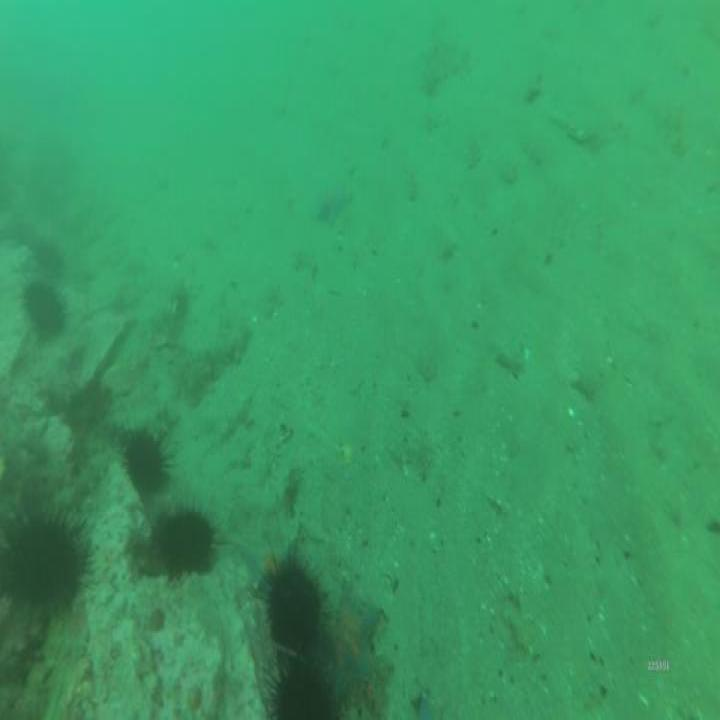echinus: (17, 516, 81, 598), (273, 565, 318, 647), (154, 514, 211, 574), (121, 429, 164, 494), (276, 665, 326, 720), (61, 378, 106, 426), (26, 283, 64, 334)
starfish: (328, 597, 377, 697), (318, 180, 348, 226)
